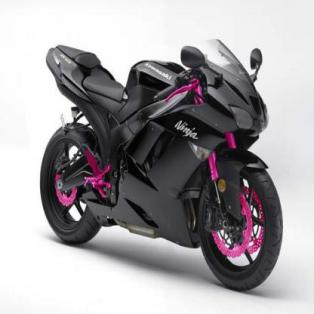Motocicleta: (35, 24, 285, 292)
